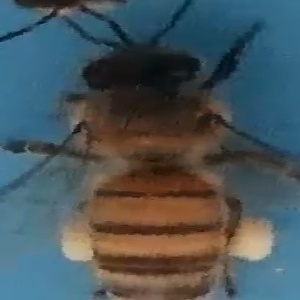bee: (57, 25, 288, 300)
